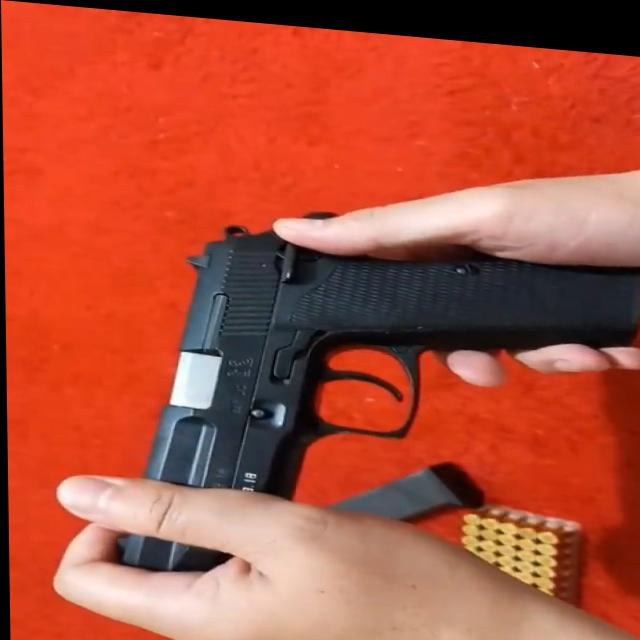handgun: (91, 208, 632, 615)
